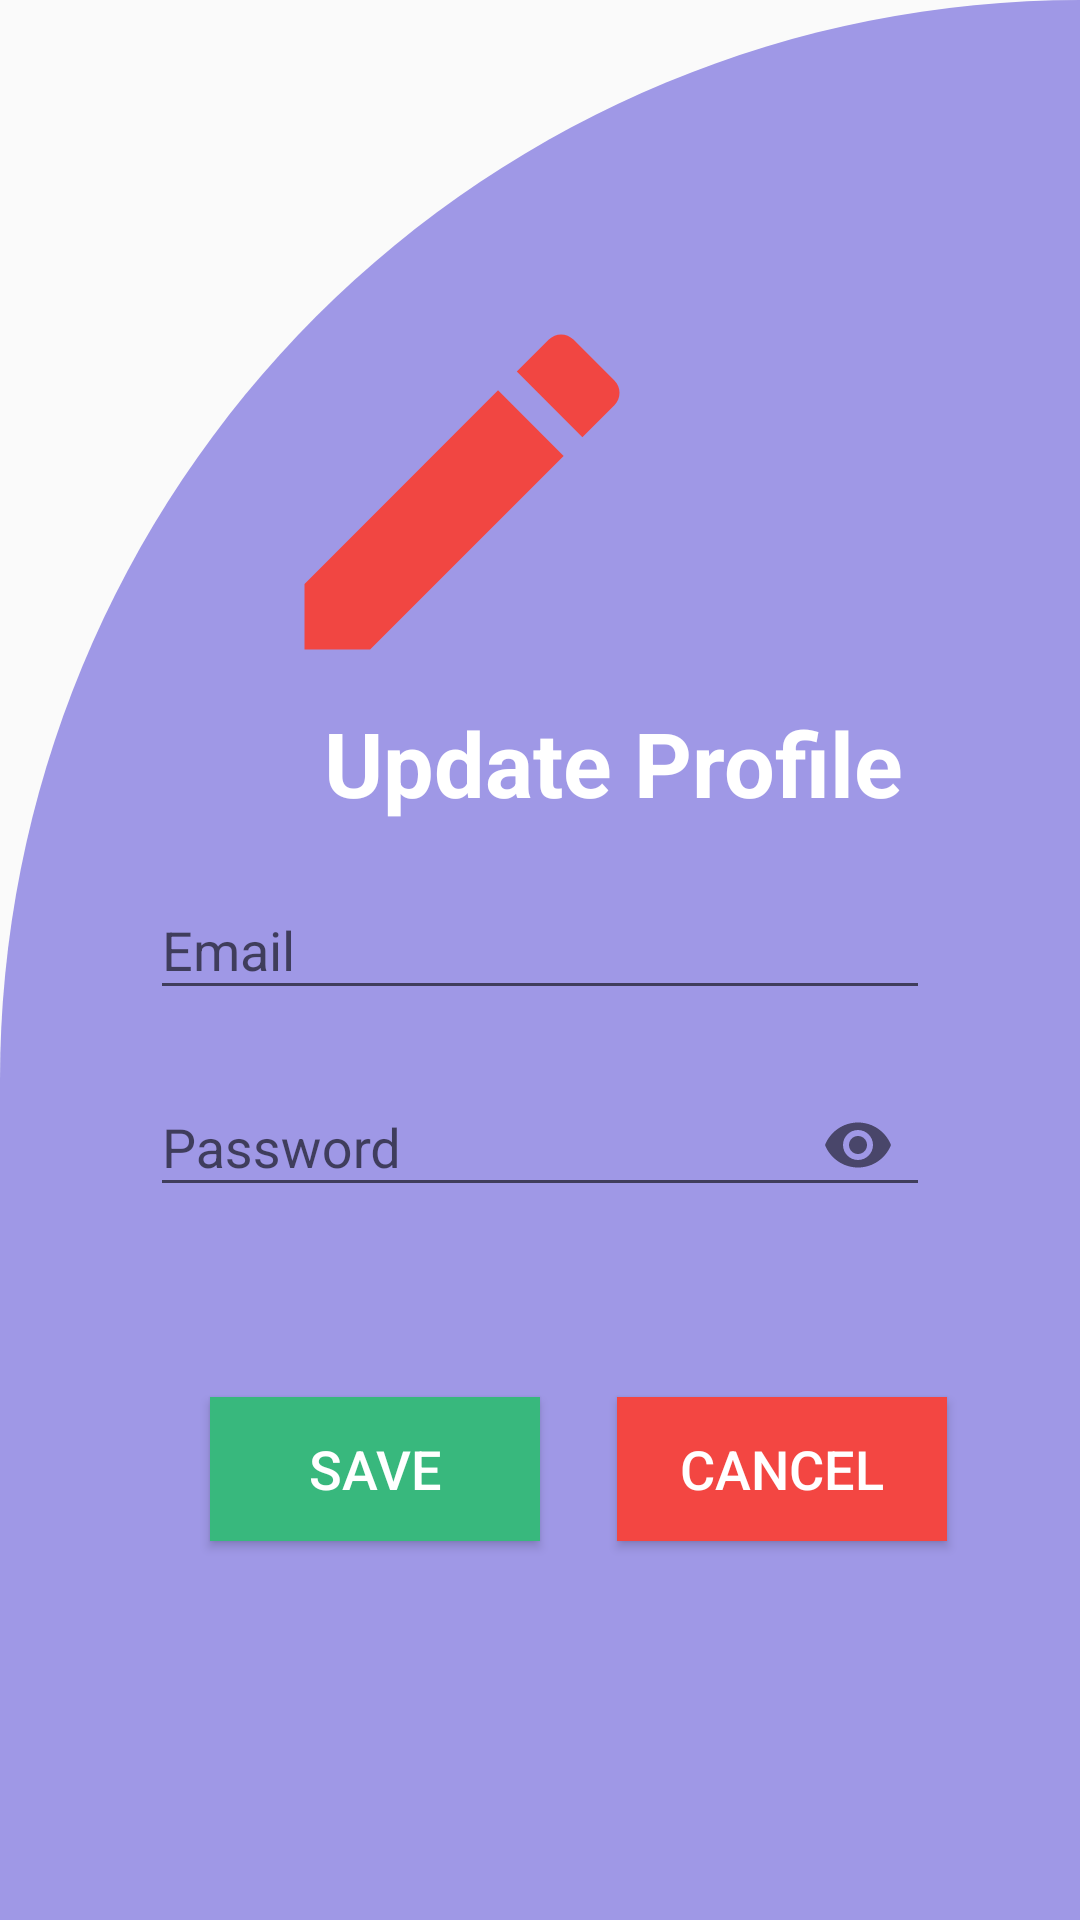

Named icons in this screenshot (1080 x 1920) and their centers, (x=x, y=y):
edit: (x=462, y=492)
